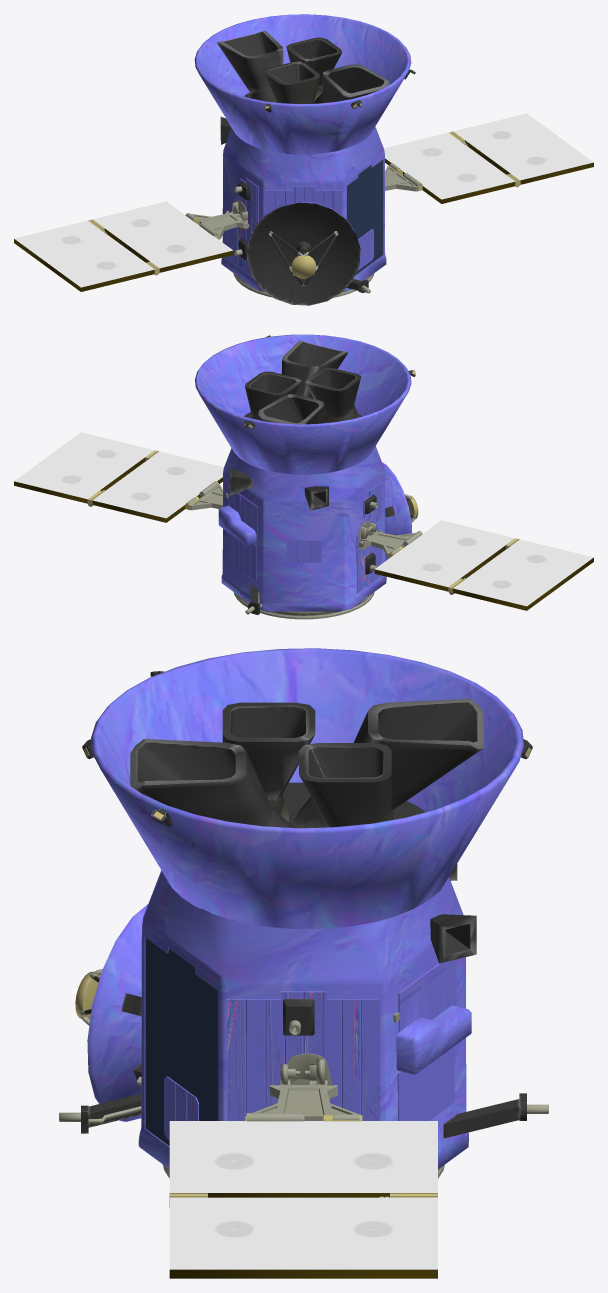
Rendered from tess.glb.
The picture shows the model from 3 angles, top to bottom: view 1: azimuth 30°, elevation 25°; view 2: azimuth 150°, elevation 25°; view 3: azimuth 270°, elevation 25°; orthographic projection. The views are drawn at different scales.
Parts seen in each view (by area): view 1: instruments, BUS, reflectors; view 2: BUS, instruments, reflectors; view 3: BUS, instruments, reflectors.
Part boxes in pixels (box(x1,y1,x2,y2)): instruments: box(14, 30, 593, 305); BUS: box(194, 14, 411, 291); reflectors: box(233, 178, 373, 275); BUS: box(195, 334, 412, 611); instruments: box(14, 335, 593, 619); reflectors: box(228, 482, 382, 593); BUS: box(87, 648, 523, 1169); instruments: box(59, 671, 548, 1278); reflectors: box(141, 937, 456, 1140).
Bounding box in the file's own units: 1 × 0.4194 × 0.4134.
5 materials, 3 textured.
